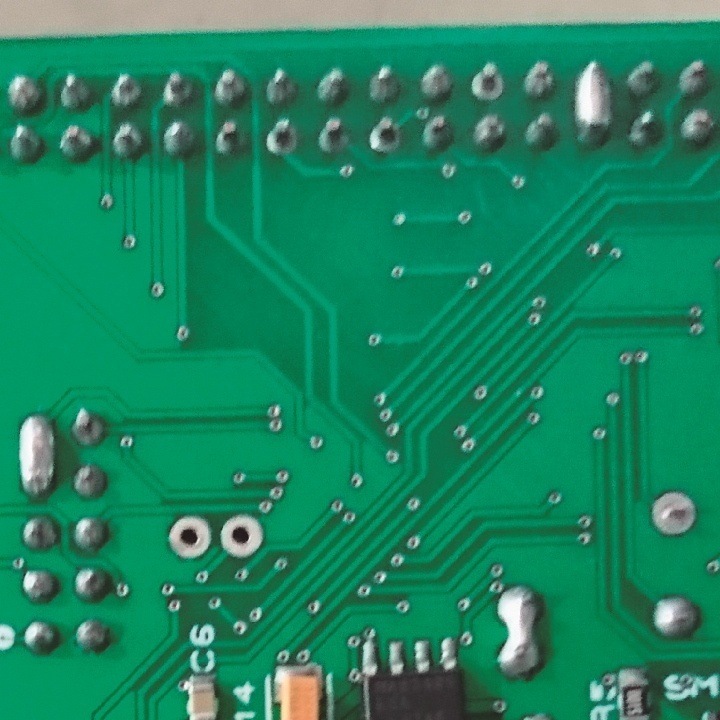F: (217, 509, 267, 561), (165, 512, 212, 566), (649, 488, 699, 536), (469, 61, 506, 103), (262, 118, 298, 155), (367, 118, 401, 154)
P: (494, 583, 544, 681), (568, 60, 613, 148), (14, 412, 56, 498)
